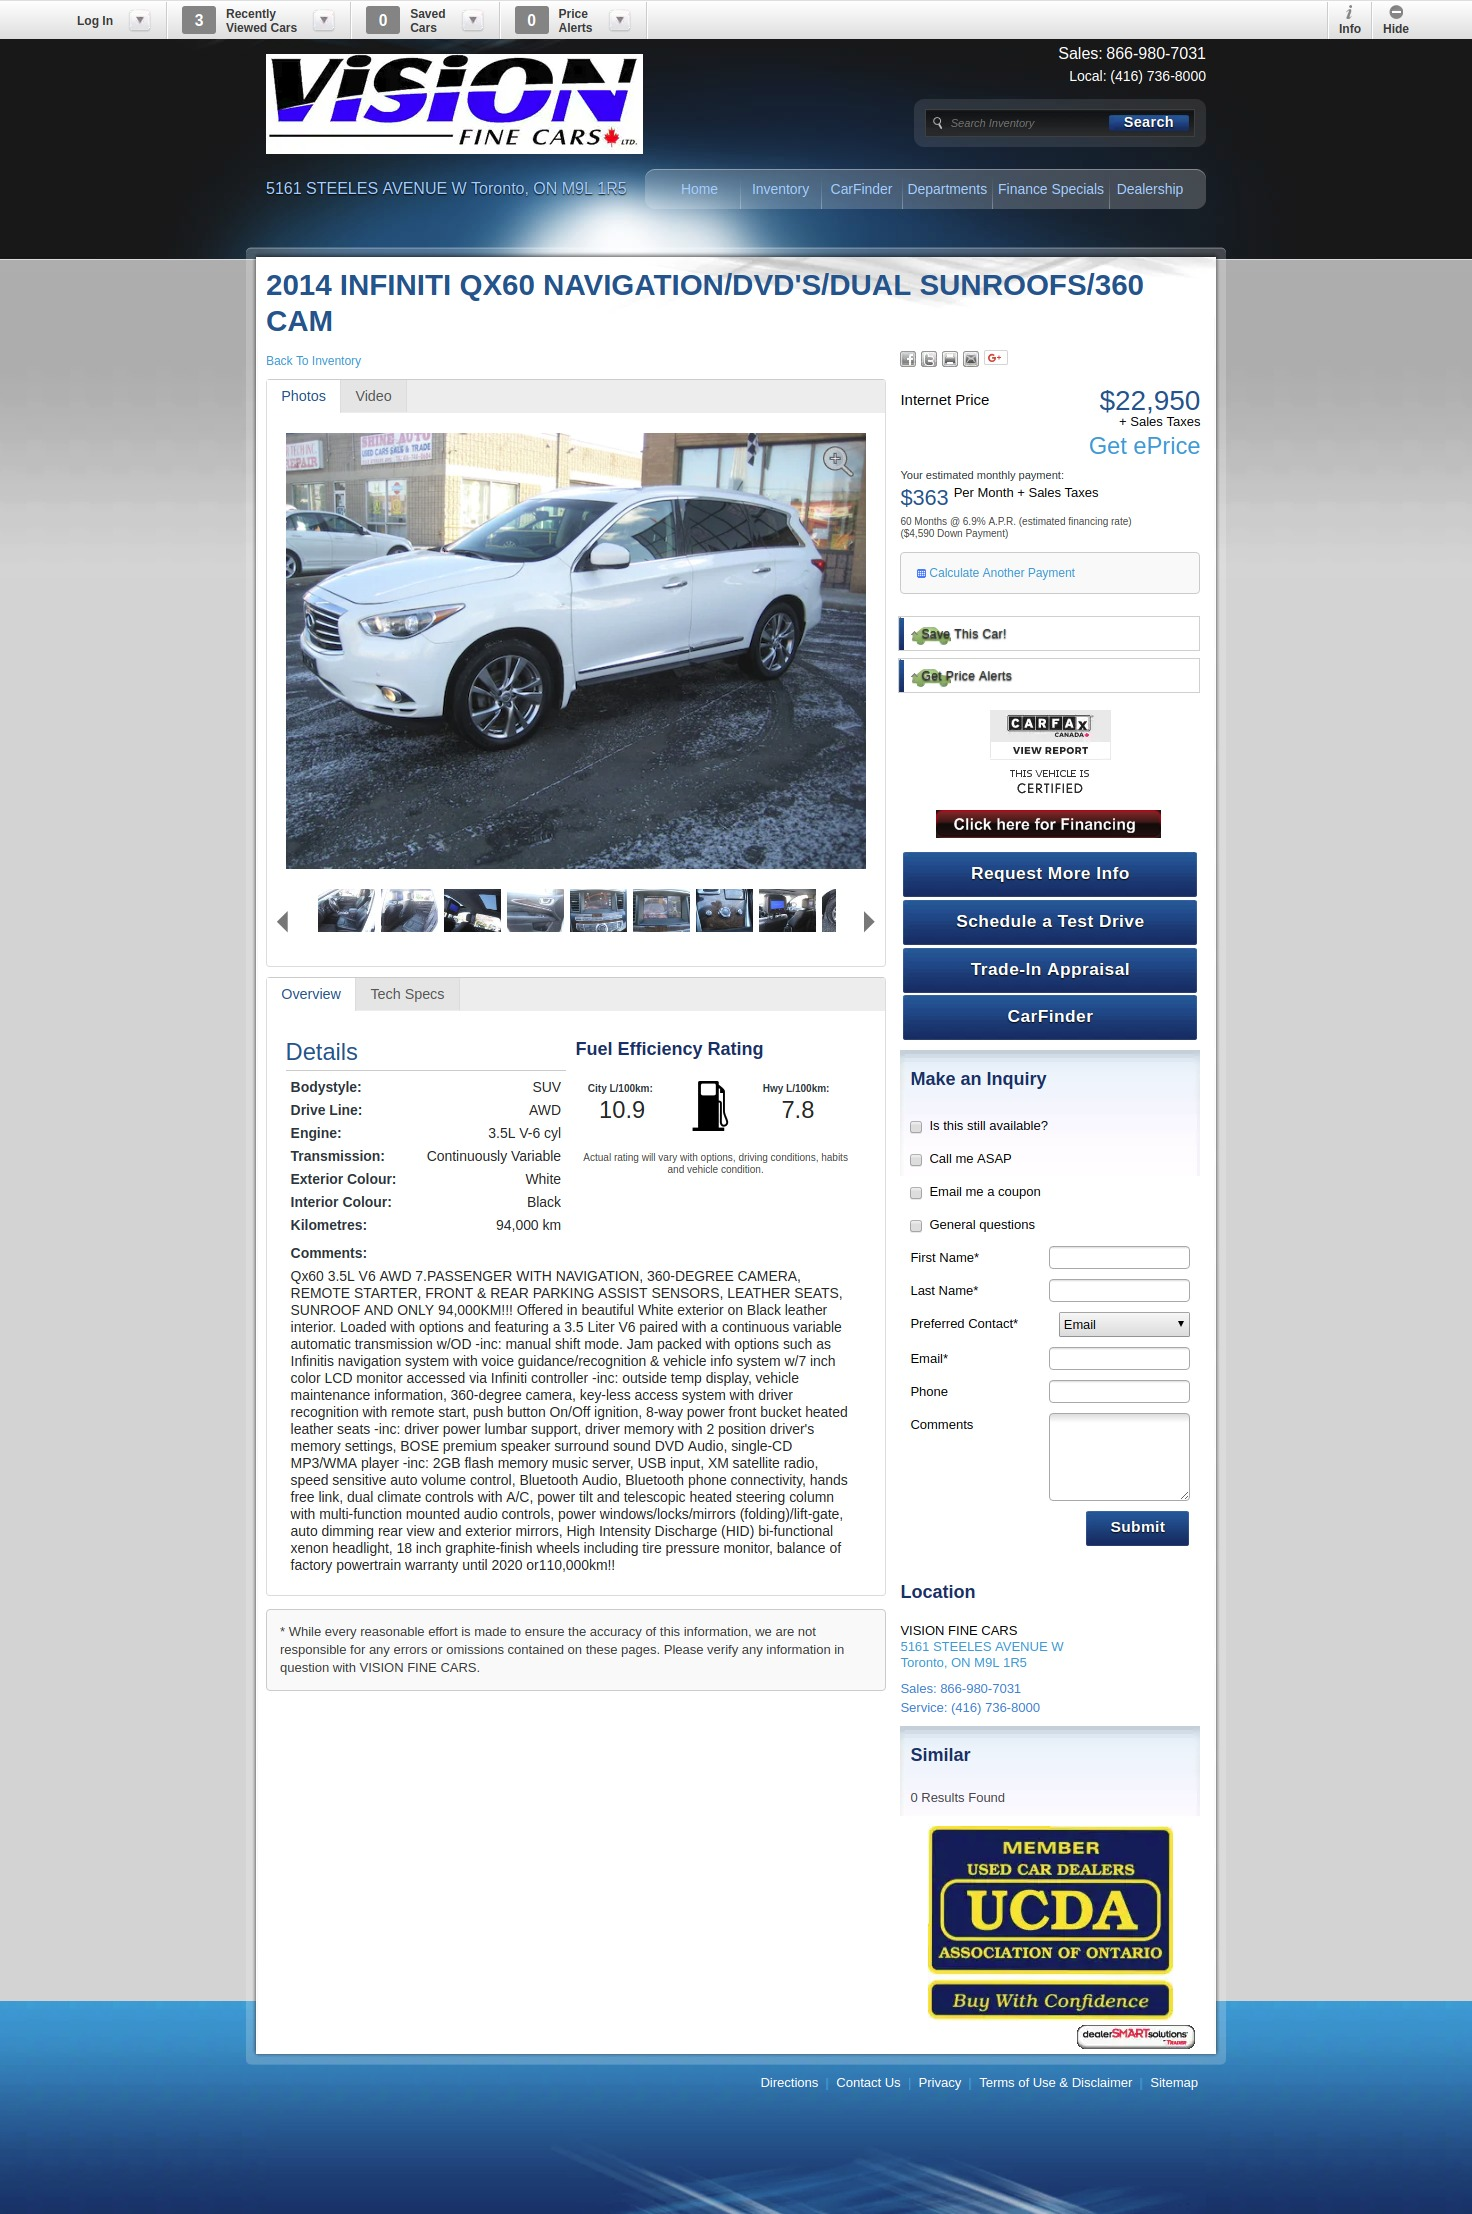car: (864, 912, 876, 935)
